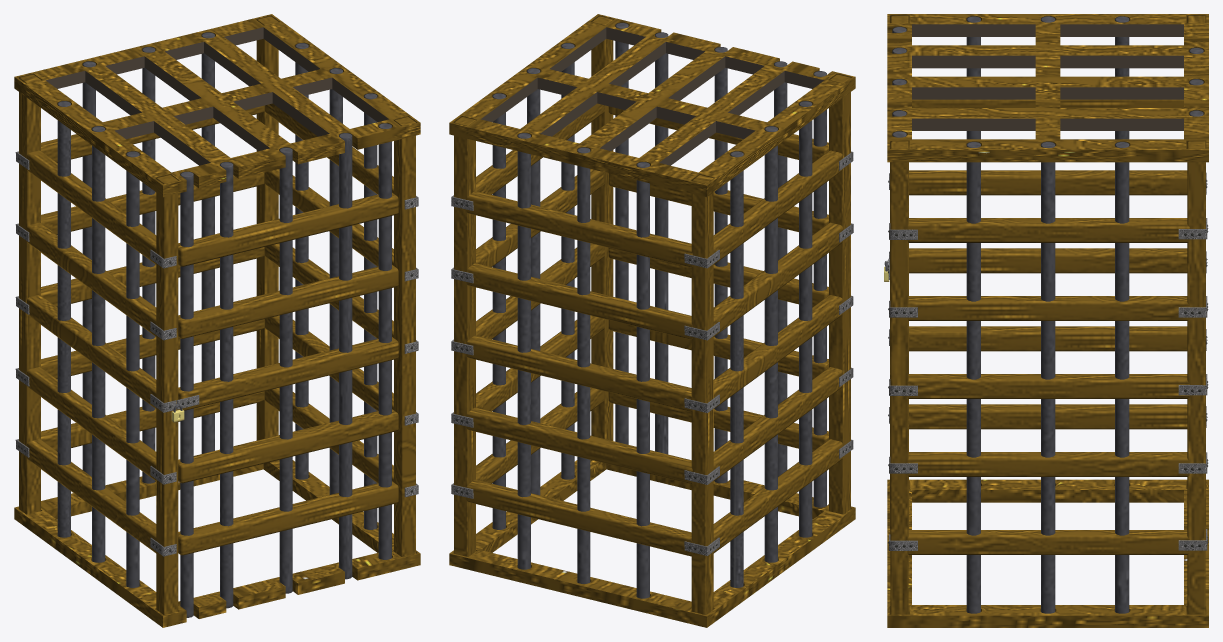
File: Cage.fbx
3 views of the same model, side by side, from view 1: azimuth 30°, elevation 25°; view 2: azimuth 150°, elevation 25°; view 3: azimuth 270°, elevation 25° (orthographic). The views are drawn at different scales.
Parts seen in each view (by area): view 1: barre_verticali, soffitto, base, barre_orizzontali1, barre_orizzontali5, barre_orizzontali4, barre_orizzontali2, barre_orizzontali3, barre_orizzontali11, barre_orizzontali12, barre_orizzontali15, barre_orizzontali13 (+11 smaller); view 2: barre_verticali, soffitto, base, barre_orizzontali18, barre_orizzontali20, barre_orizzontali19, barre_orizzontali16, barre_orizzontali17, barre_orizzontali11, barre_orizzontali12, barre_orizzontali15, barre_orizzontali13 (+11 smaller); view 3: soffitto, barre_verticali, base, barre_orizzontali7, barre_orizzontali9, barre_orizzontali10, barre_orizzontali6, barre_orizzontali8, barre_orizzontali12, barre_orizzontali13, barre_orizzontali14, barre_orizzontali15 (+1 smaller).
Part boxes in pixels (<box>): barre_verticali: <box>19,16,415,617</box>; soffitto: <box>14,14,420,197</box>; base: <box>14,460,420,627</box>; barre_orizzontali1: <box>178,481,398,555</box>; barre_orizzontali5: <box>178,192,398,266</box>; barre_orizzontali4: <box>178,265,398,338</box>; barre_orizzontali2: <box>178,409,398,483</box>; barre_orizzontali3: <box>178,337,398,410</box>; barre_orizzontali11: <box>27,150,156,264</box>; barre_orizzontali12: <box>27,222,156,336</box>; barre_orizzontali15: <box>27,439,156,553</box>; barre_orizzontali13: <box>27,295,156,408</box>; barre_verticali: <box>454,16,850,614</box>; soffitto: <box>449,14,855,197</box>; base: <box>449,459,855,627</box>; barre_orizzontali18: <box>466,335,692,411</box>; barre_orizzontali20: <box>466,479,692,556</box>; barre_orizzontali19: <box>466,407,692,484</box>; barre_orizzontali16: <box>466,191,692,267</box>; barre_orizzontali17: <box>466,263,692,339</box>; barre_orizzontali11: <box>713,150,842,264</box>; barre_orizzontali12: <box>713,222,842,336</box>; barre_orizzontali15: <box>713,439,842,553</box>; barre_orizzontali13: <box>713,295,842,408</box>; soffitto: <box>887,14,1208,162</box>; barre_verticali: <box>890,15,1205,614</box>; base: <box>887,479,1208,627</box>; barre_orizzontali7: <box>907,296,1189,320</box>; barre_orizzontali9: <box>907,452,1189,476</box>; barre_orizzontali10: <box>907,530,1189,554</box>; barre_orizzontali6: <box>907,218,1189,242</box>; barre_orizzontali8: <box>907,374,1189,398</box>; barre_orizzontali12: <box>909,170,1187,195</box>; barre_orizzontali13: <box>909,248,1187,273</box>; barre_orizzontali14: <box>909,326,1187,351</box>; barre_orizzontali15: <box>909,404,1187,429</box>.
Size of the model in its own units: 5.91 by 9.68 by 5.96.
Materials: 2 (2 with a texture image).
